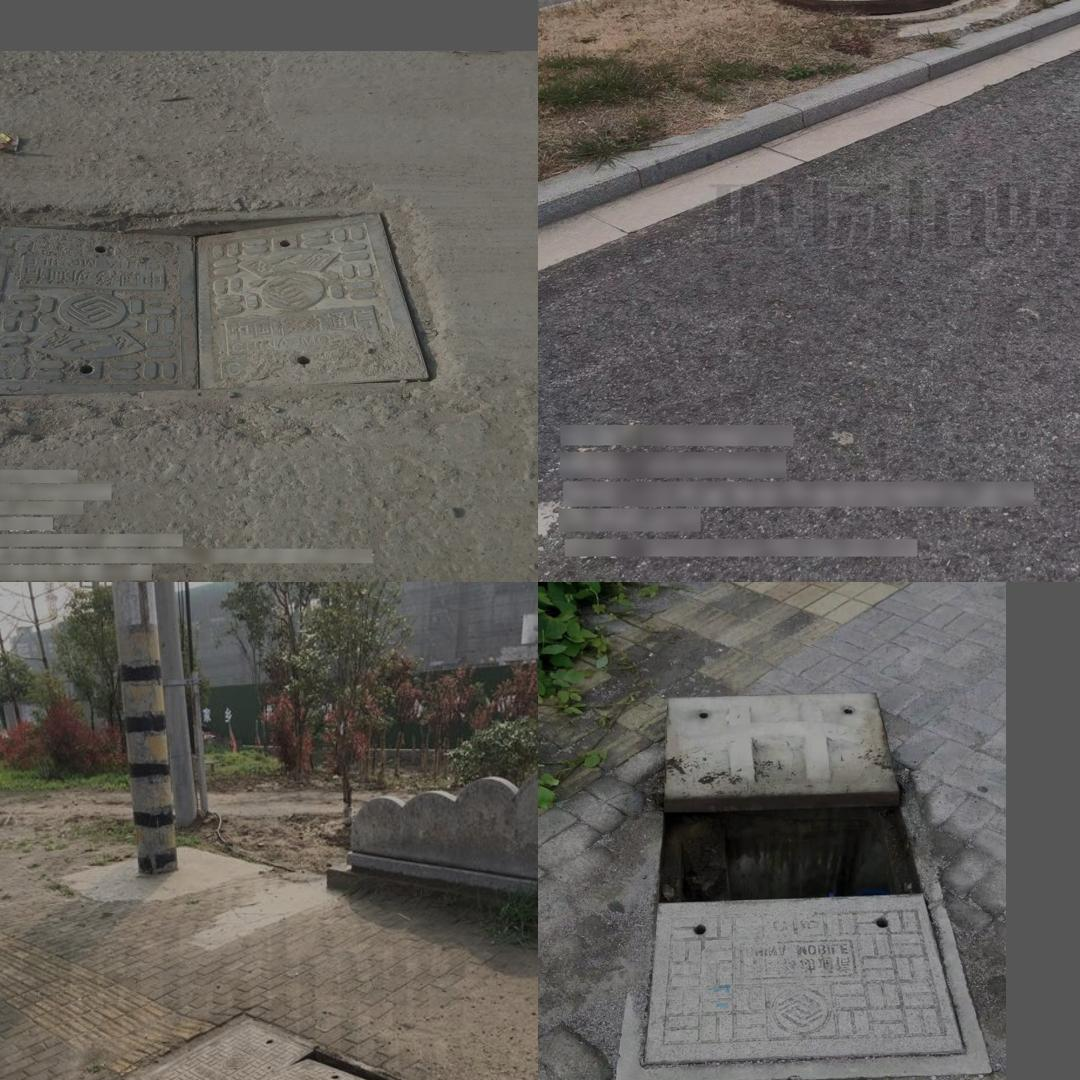uncovered: (614, 688, 991, 1080), (0, 203, 449, 399), (141, 1010, 404, 1080), (766, 0, 980, 20)
